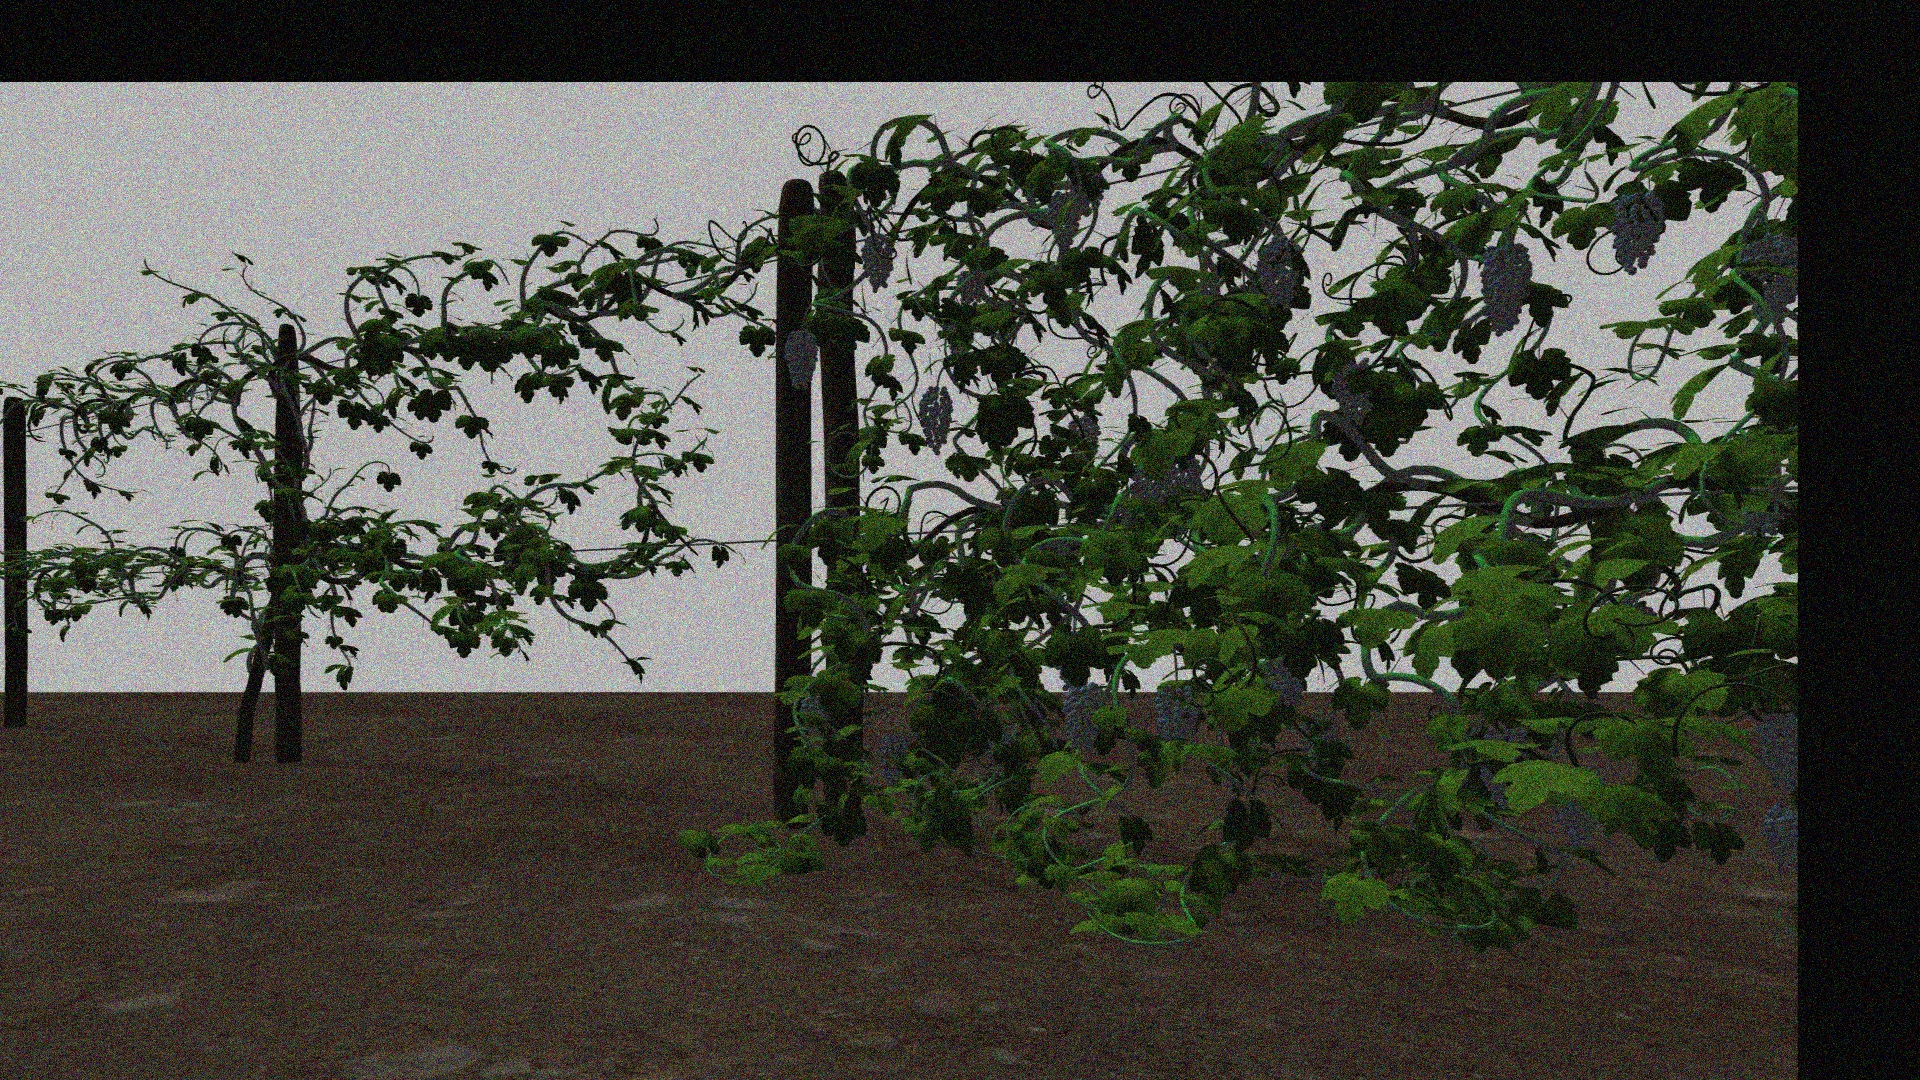grape: (1609, 185, 1665, 276), (1478, 241, 1531, 336), (1741, 233, 1793, 320), (1062, 680, 1112, 758), (1255, 236, 1299, 313), (1153, 678, 1203, 744), (1753, 713, 1793, 789), (1331, 357, 1371, 423), (1044, 189, 1091, 247), (918, 381, 953, 454), (1760, 800, 1793, 869), (782, 328, 818, 392), (1556, 799, 1597, 851), (1129, 465, 1182, 505), (860, 233, 894, 293), (1265, 662, 1305, 705), (877, 732, 909, 782), (799, 694, 829, 742), (1067, 411, 1100, 444)
